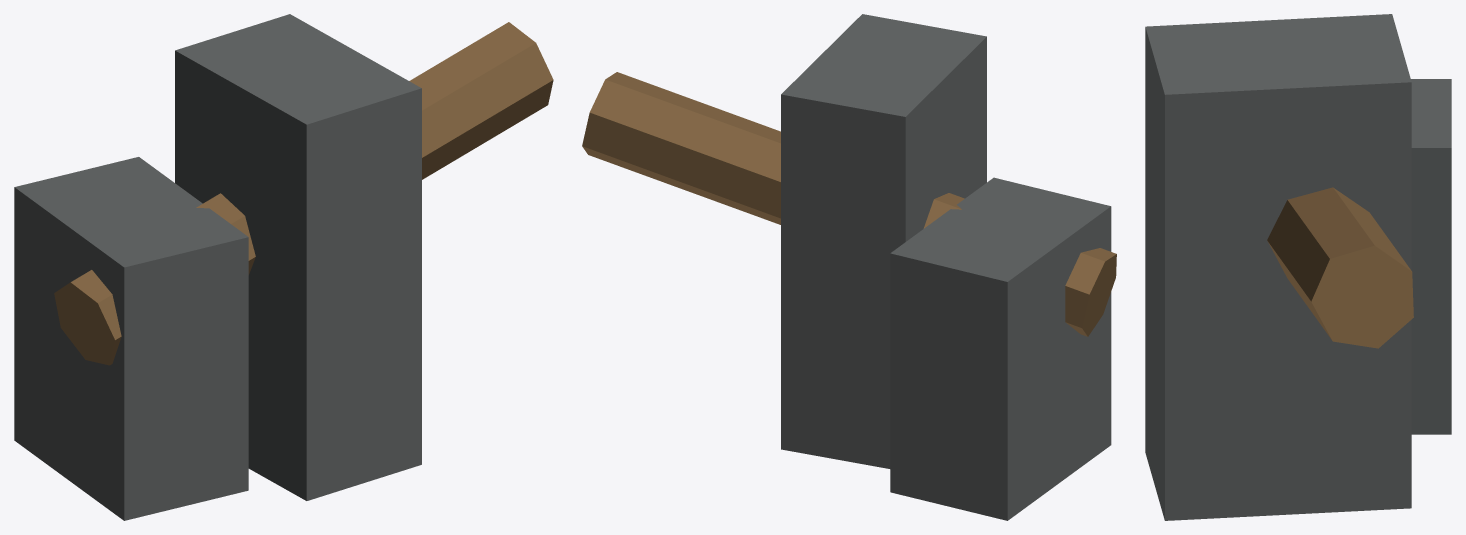
File: map-boundaries-v5__iron_04.glb
3 renders of one model, left to right at view 1: azimuth 30°, elevation 25°; view 2: azimuth 150°, elevation 25°; view 3: azimuth 270°, elevation 25°, orthographic. The views are drawn at different scales.
Visible parts, largest first — view 1: iron_04; view 2: iron_04; view 3: iron_04.
Part boxes in pixels (bbox=[...]): iron_04: bbox=[14, 14, 553, 520]; iron_04: bbox=[582, 14, 1116, 520]; iron_04: bbox=[1145, 14, 1451, 520].
Size of the model in its own units: 1.46 by 1.04 by 0.6773.
